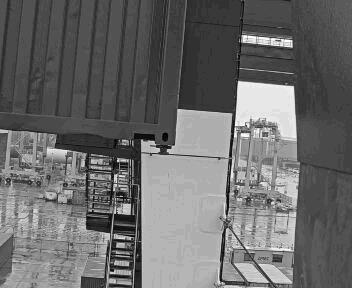twist_lock_1: (156, 141, 178, 159)
